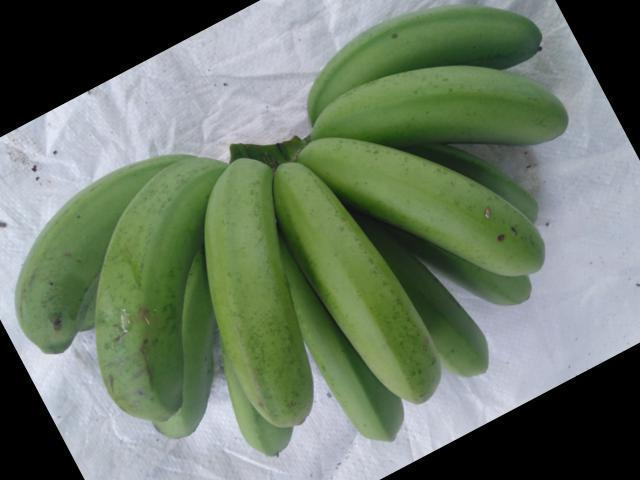unripe: (253, 174, 446, 419), (300, 134, 568, 283), (82, 147, 210, 419), (196, 142, 312, 437), (13, 122, 111, 391), (312, 69, 594, 158), (297, 5, 550, 103), (301, 294, 412, 449)
